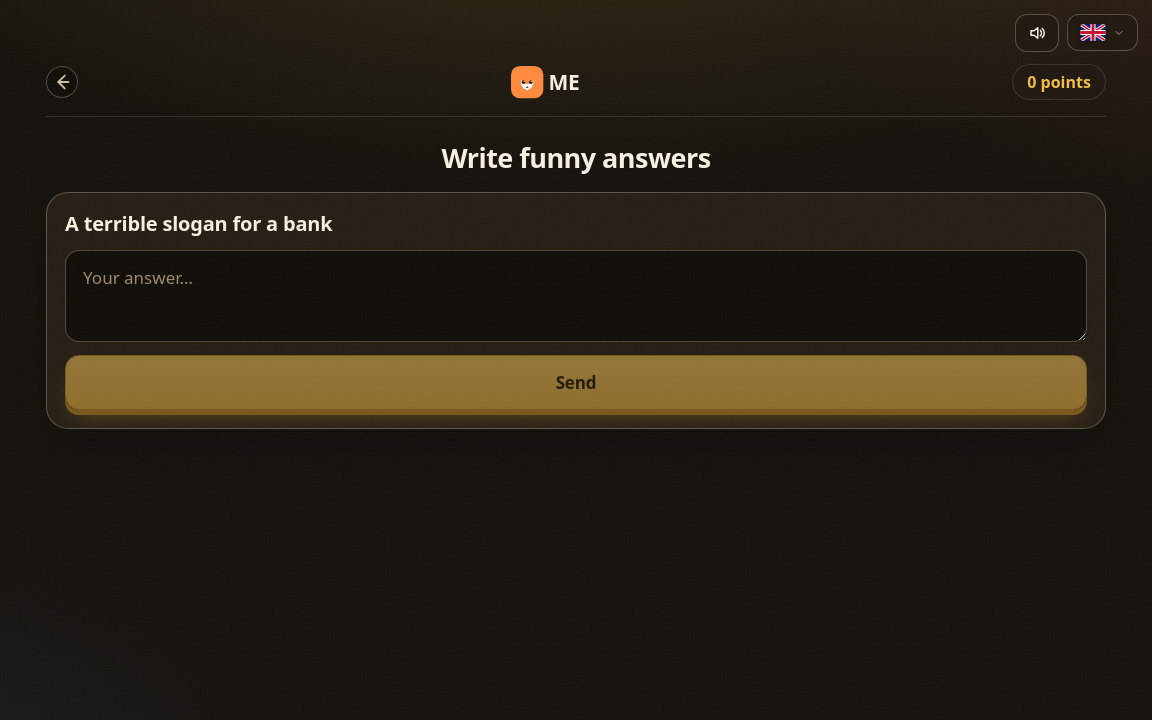
it: PlayerScreen quiplash answering › keeps send disabled until something has been typed
Expected: the button "Send" is disabled, left=65, top=355, right=1087, bottom=410
Type "Your money, our yacht" into the text box at (576, 296), box left=65, top=250, right=1087, bottom=342
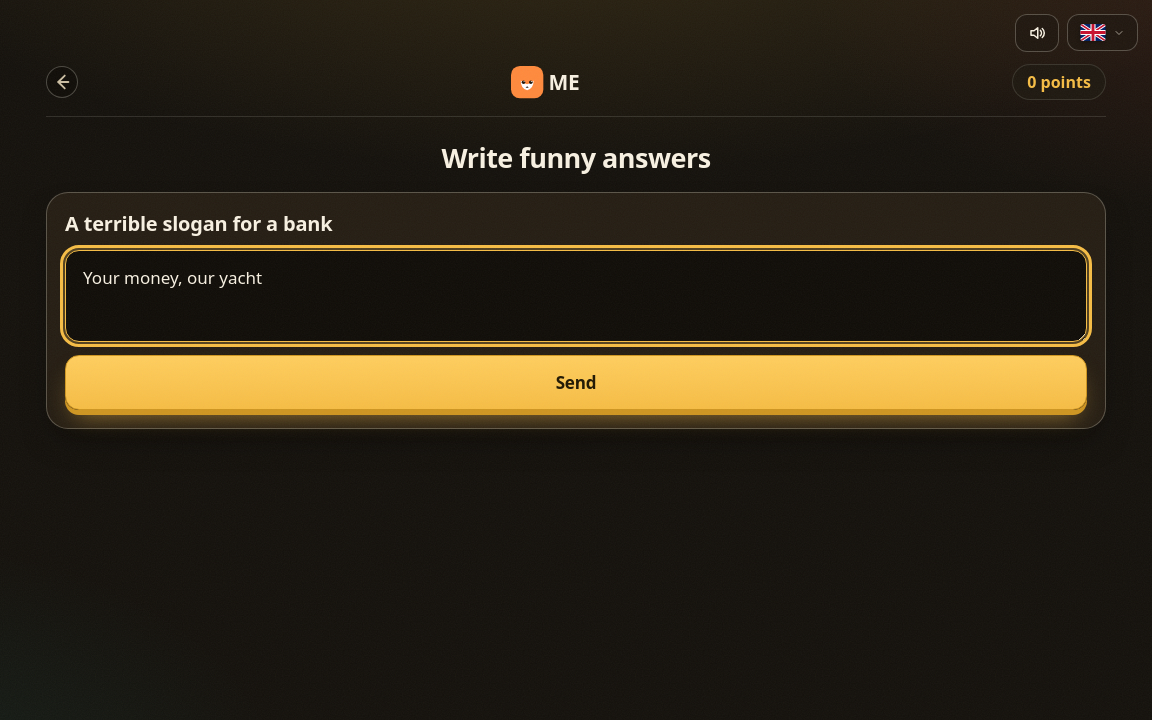
Now the button "Send" is enabled, box left=65, top=355, right=1087, bottom=410
